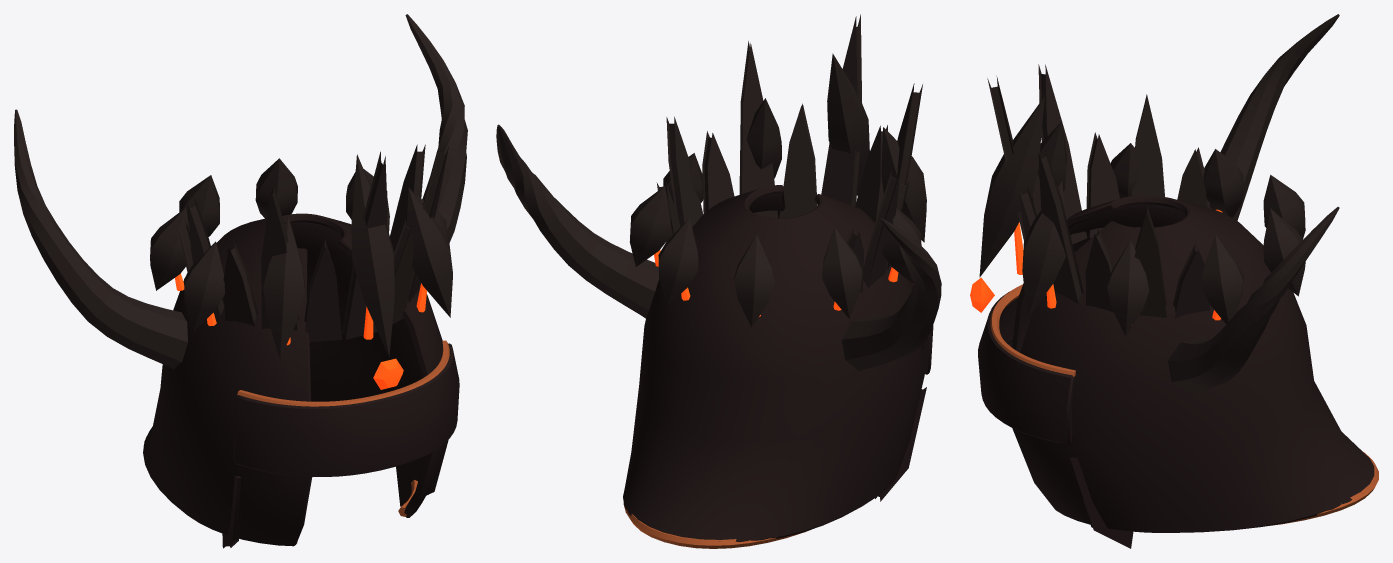
Rendered from asc_firstflame_warlord_helm.glb.
3 views of the same model, side by side, from view 1: azimuth 30°, elevation 25°; view 2: azimuth 150°, elevation 25°; view 3: azimuth 270°, elevation 25° (orthographic). The views are drawn at different scales.
Parts seen in each view (by area): view 1: asc_firstflame_warlord_helm; view 2: asc_firstflame_warlord_helm; view 3: asc_firstflame_warlord_helm.
Part boxes in pixels (<box>): asc_firstflame_warlord_helm: <box>14,14,467,548</box>; asc_firstflame_warlord_helm: <box>496,14,941,548</box>; asc_firstflame_warlord_helm: <box>970,14,1378,548</box>.
Bounding box in the file's own units: 0.6292 × 0.5826 × 0.5033.
